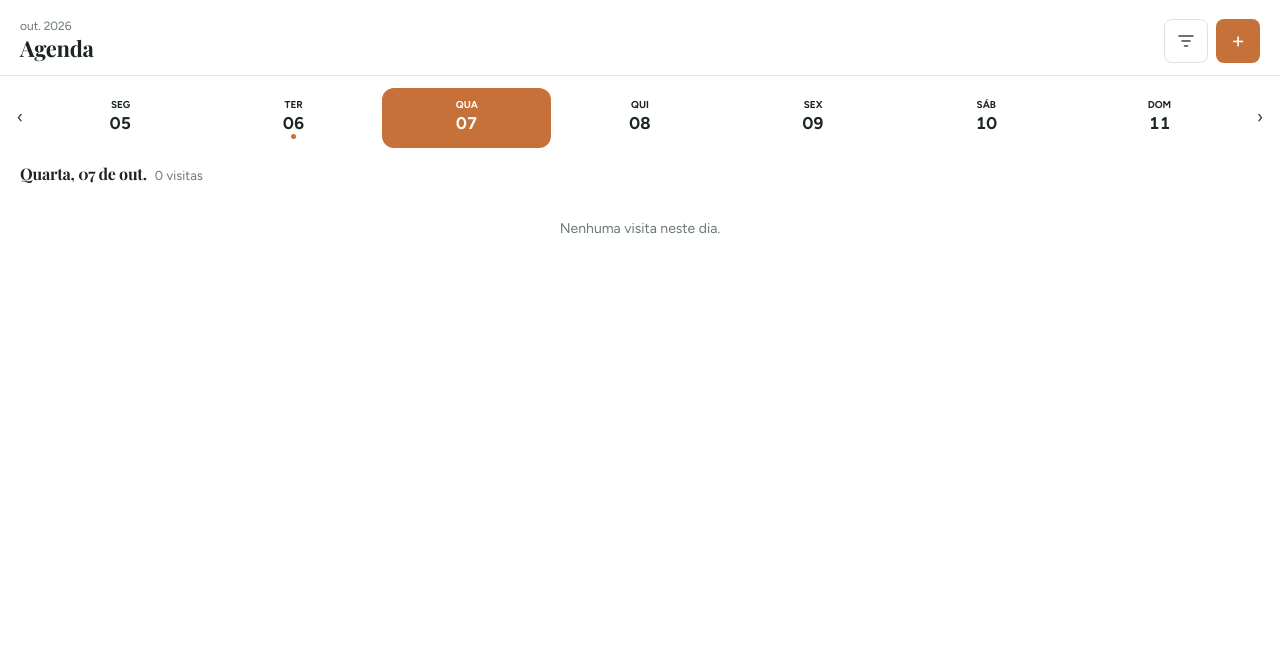
Test case: Registro da visita (CRMLAB-88) › com check-in feito, "Saí" faz o check-out e [Reagendar] some
Step 1. Click the tab with aria-label "Terça, 06 de out., com visitas" → point(294, 118), box [209,88,378,148]
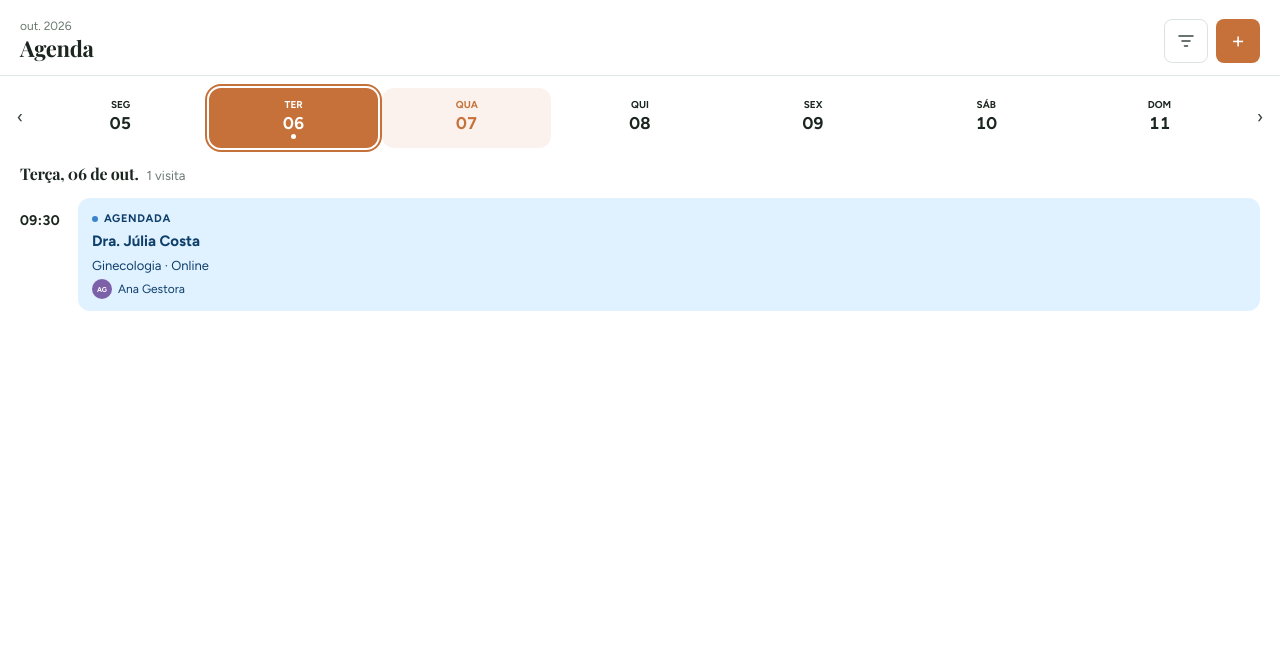
Step 2. Click the text "Dra. Júlia Costa" → point(146, 242), box [92,230,200,253]
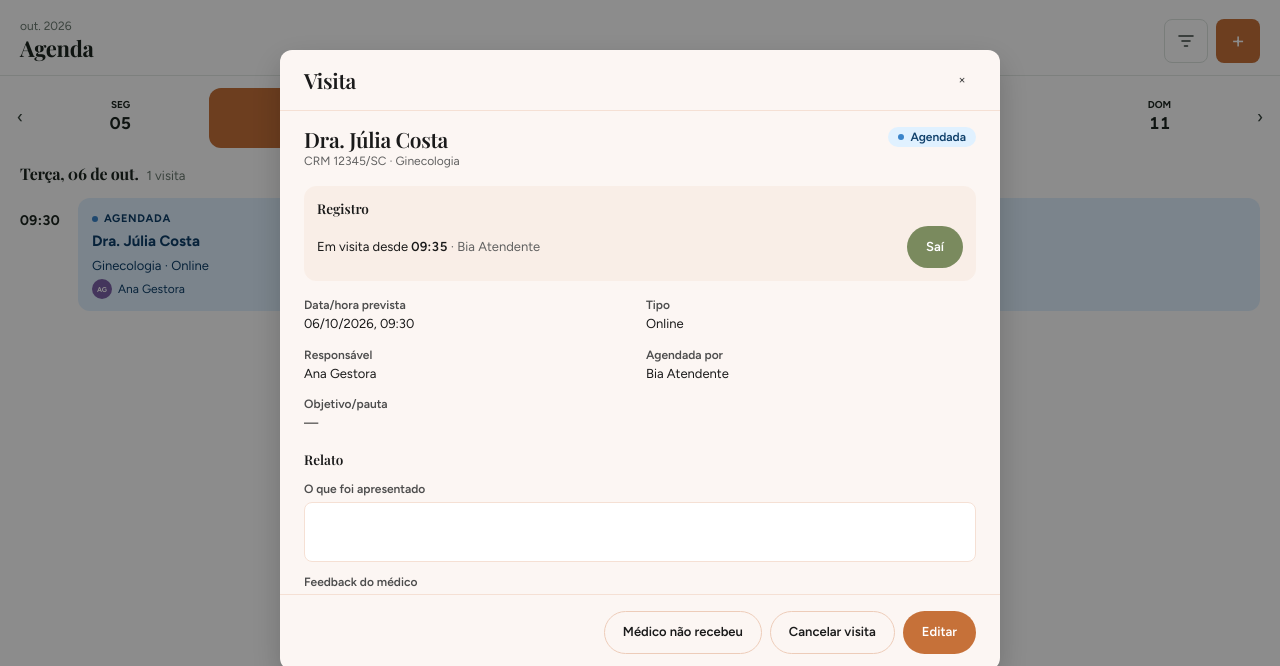
Expected: the button "Saí" is shown
Expected: the button "Cancelar visita" is shown, [770,612,895,654]
Step 3. Click the button "Saí" → point(935, 247), box [907,226,963,268]
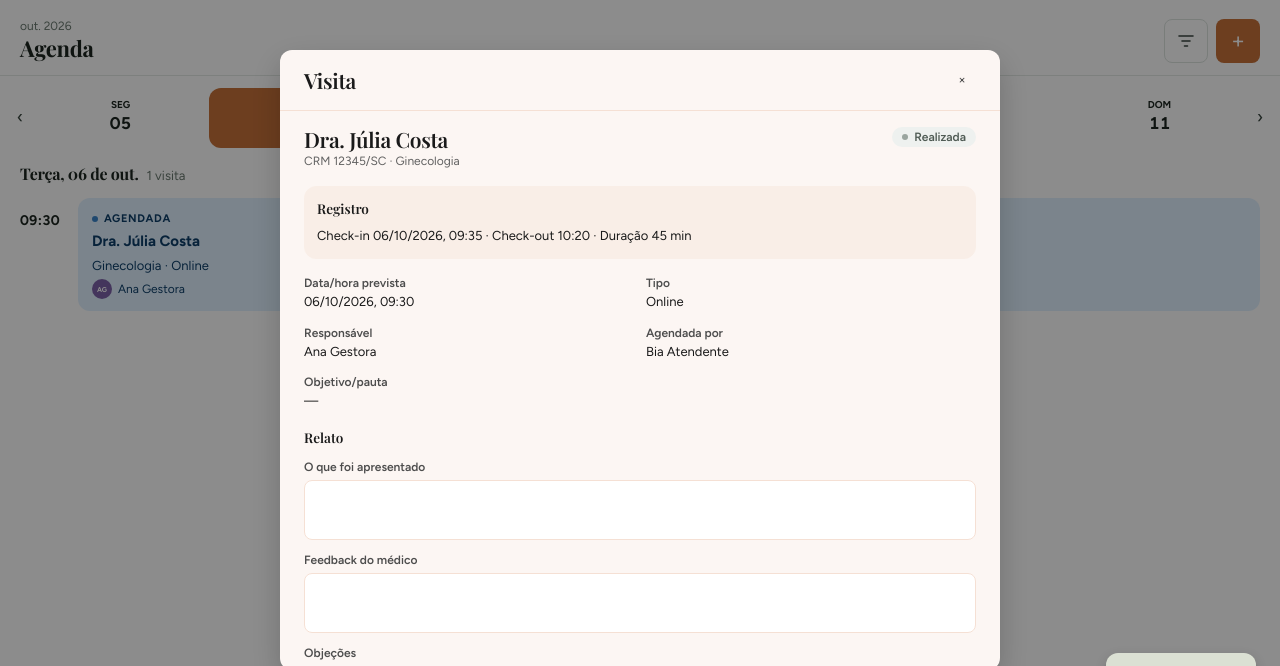
Expected: the text with test id "visit-check-summary" shows "Check-out 10:20 · Duração 45 min", [317,228,692,243]
